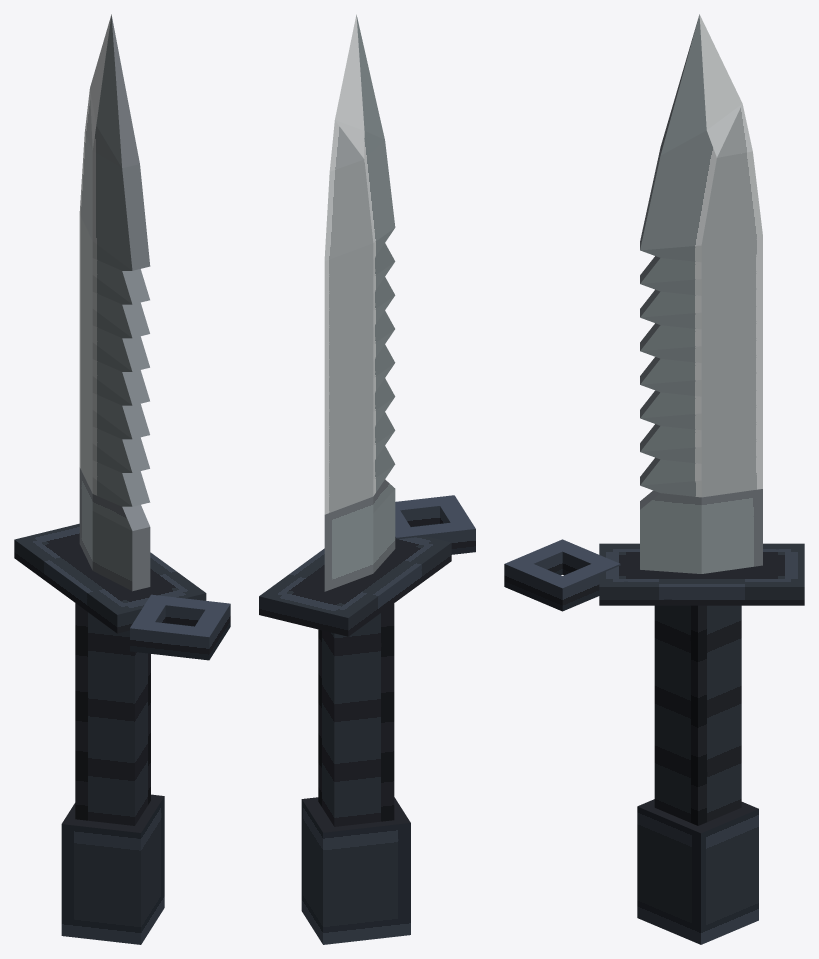
File: m9-bayonet.gltf
The picture shows the model from 3 angles, left to right: view 1: azimuth 30°, elevation 25°; view 2: azimuth 150°, elevation 25°; view 3: azimuth 270°, elevation 25°; orthographic projection.
Visible parts, largest first — view 1: cube (×8); view 2: cube (×7); view 3: cube (×8).
Part boxes in pixels (<box>): cube (×8): <box>14,14,230,944</box>; cube (×7): <box>259,14,475,944</box>; cube (×8): <box>504,14,804,944</box>.
Bounding box in the file's own units: 0.145 × 1.19 × 0.357.
1 material, 1 textured.
